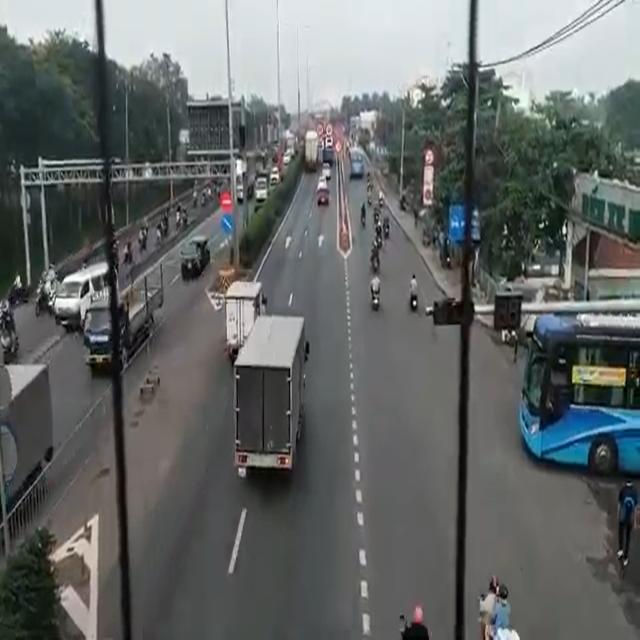bus: (530, 313, 636, 474)
car: (56, 259, 101, 327)
motor: (474, 569, 518, 640), (369, 263, 384, 314), (405, 272, 422, 316)
truck: (234, 315, 305, 477), (87, 259, 167, 373), (227, 275, 255, 347), (178, 230, 214, 283), (304, 129, 316, 165)
